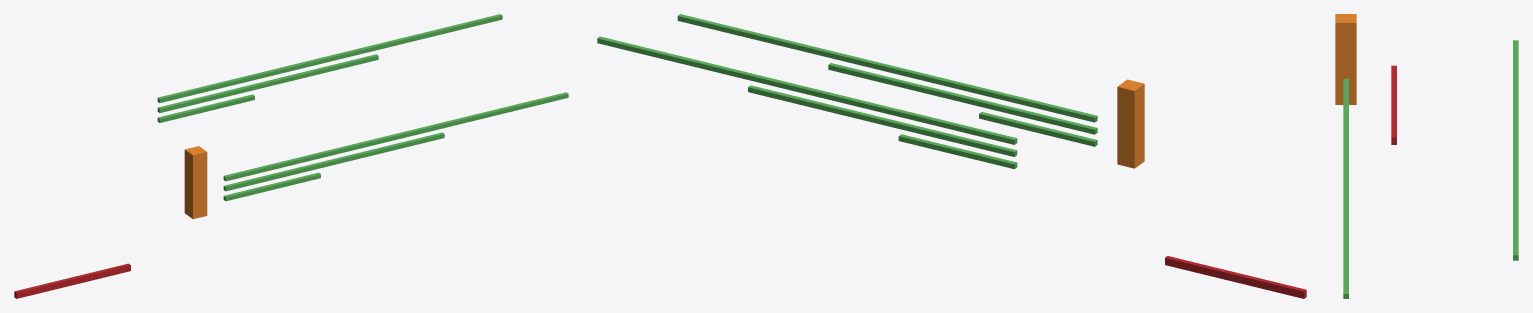
Rendered from centralized_lubrication_system_pressure.glb.
3 views of the same model, side by side, from view 1: azimuth 30°, elevation 25°; view 2: azimuth 150°, elevation 25°; view 3: azimuth 270°, elevation 25° (orthographic). The views are drawn at different scales.
Parts seen in each view (by area): view 1: pressure__back, pressure__front; view 2: pressure__back, pressure__front; view 3: pressure__back, pressure__front.
Boxes of the visible parts, box(x1,y1,x2,y2) form: pressure__back: box(14, 14, 566, 298); pressure__front: box(189, 93, 568, 219); pressure__back: box(597, 15, 1306, 298); pressure__front: box(679, 14, 1144, 164); pressure__back: box(1346, 14, 1518, 298); pressure__front: box(1335, 14, 1345, 298).
Bounding box in the file's own units: 2.8 × 0.61 × 0.6475.
